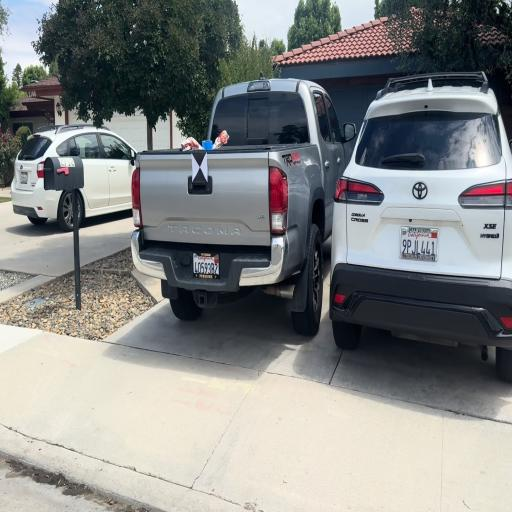target: (192, 152, 208, 182)
